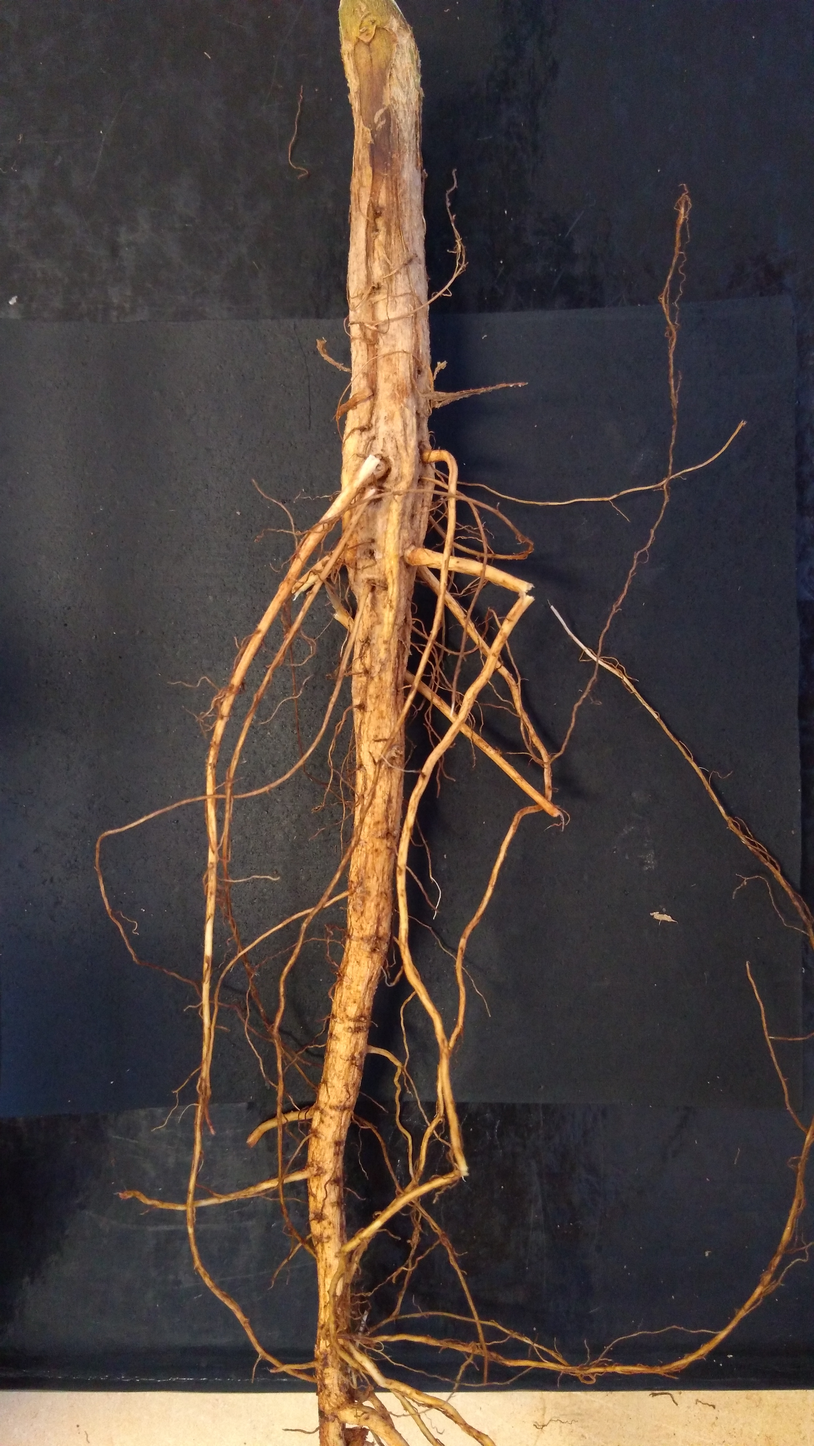nodule: (342, 1426, 370, 1443), (422, 168, 428, 179)
